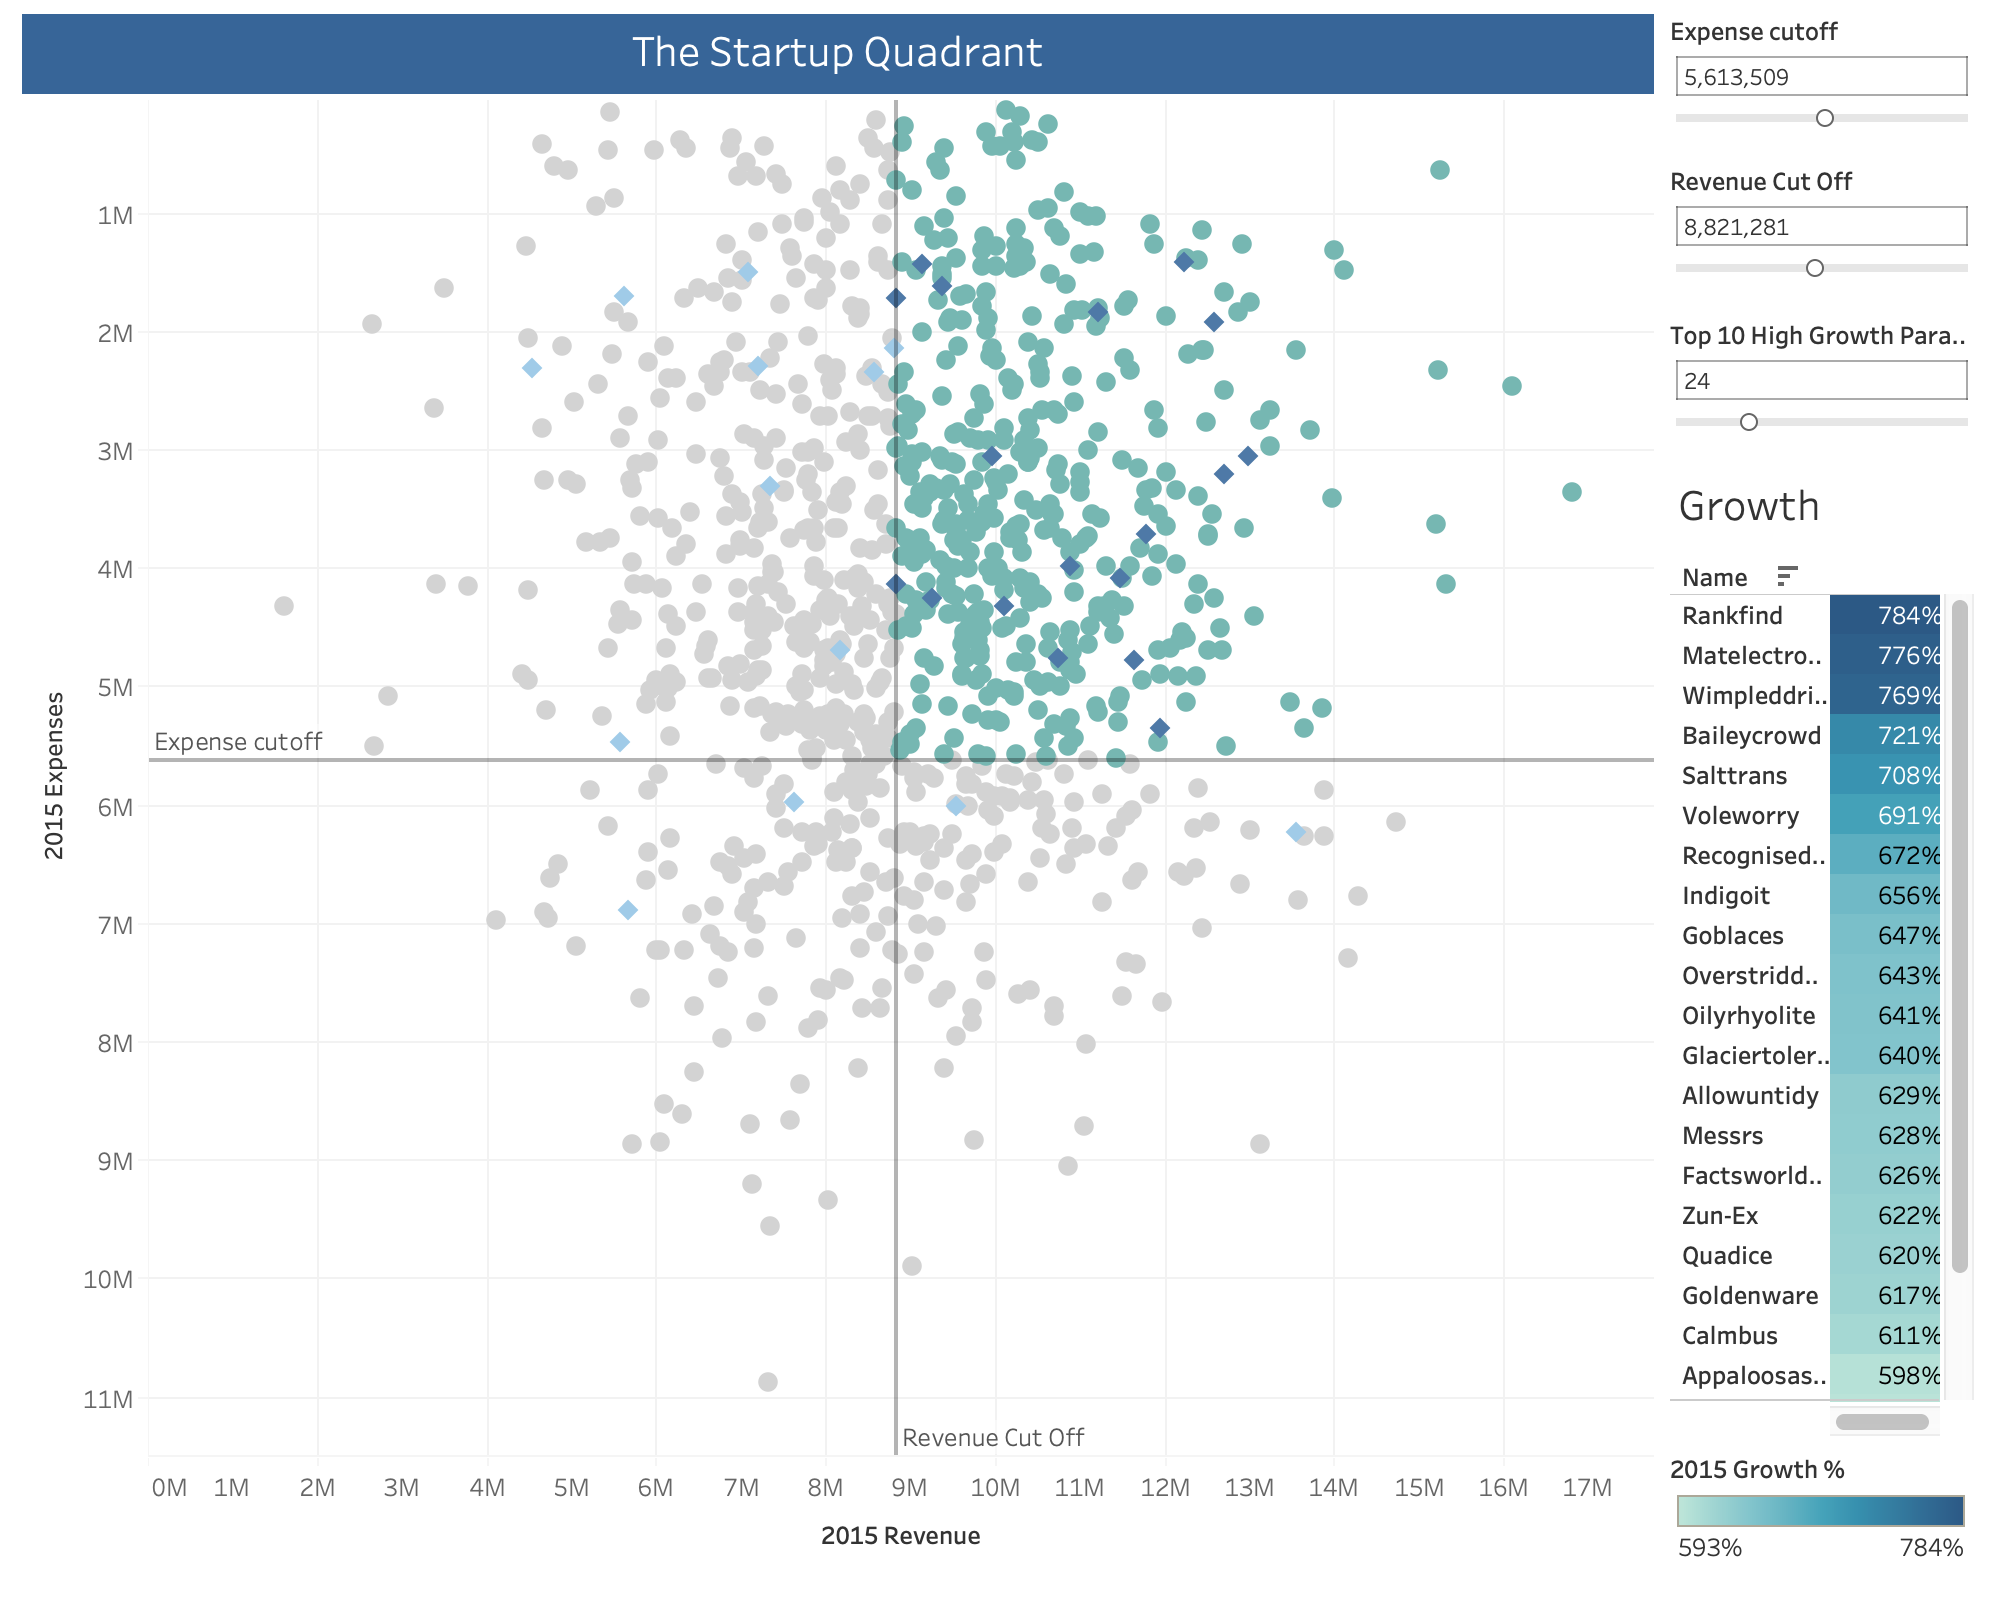

This screenshot's page, from the dashboard's own definition file:
{"tool":"tableau","page":{"name":"Startup Dashboard ","canvas":[1000,800],"ordinal":0},"visuals":[{"type":"worksheet","title":"The Startup Quadrant","mark":"Shape","rows":["2015 Expenses"],"cols":["2015 Revenue"],"box":[8,8,824,784]},{"type":"parameter","param":"[Parameters].[Parameter 2]","box":[832,8,160,75]},{"type":"parameter","param":"[Parameters].[Parameter 1]","box":[832,83,160,77]},{"type":"parameter","param":"[Parameters].[Top 10 High Profit Parameter]","box":[832,160,160,75]},{"type":"worksheet","title":"Growth","mark":"Square","rows":["Name"],"box":[832,235,160,372]},{"type":"legend","title":"Growth","param":"[federated.06cqobp1enrtb317m23yd0idte8v].[sum:2015 Growth %:qk]","box":[832,607,160,65]}]}

Visuals, with their boxes in screenshot pixels (x1, y1, x2, y2), scaled from the page's 1000x800 canvas onto the 2000x1616 screenshot:
"The Startup Quadrant" worksheet (Shape marks): (x1=16, y1=16, x2=1664, y2=1600)
parameter: (x1=1664, y1=16, x2=1984, y2=168)
parameter: (x1=1664, y1=168, x2=1984, y2=323)
parameter: (x1=1664, y1=323, x2=1984, y2=475)
"Growth" worksheet (Square marks): (x1=1664, y1=475, x2=1984, y2=1226)
"Growth" legend: (x1=1664, y1=1226, x2=1984, y2=1357)
